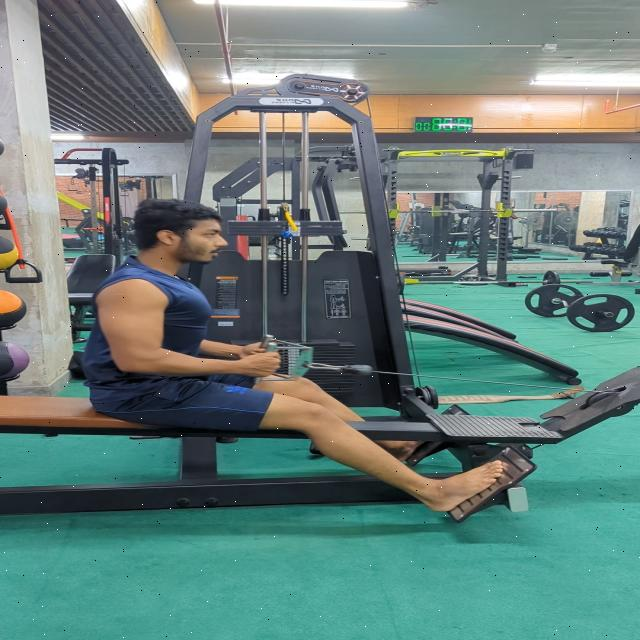Normal_RowingMachineExercise: (76, 198, 512, 513)
